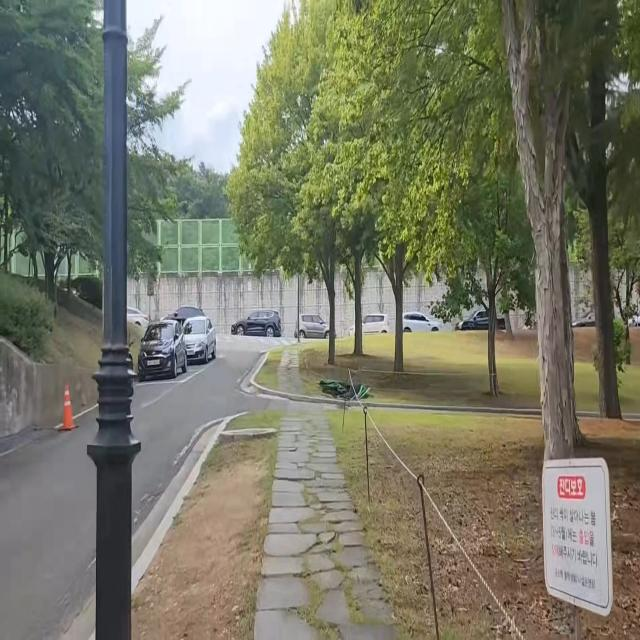obstacle: (92, 0, 133, 640), (136, 308, 222, 379), (57, 381, 77, 436)
road: (0, 348, 271, 640)
sidewalk: (280, 327, 312, 400)
